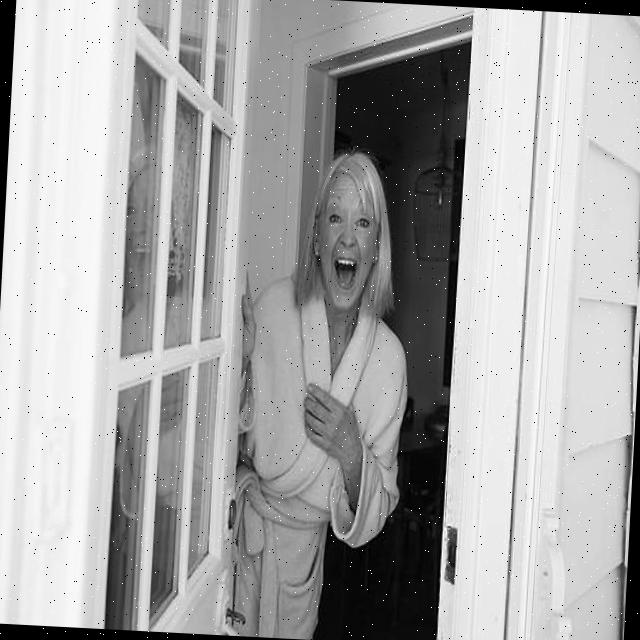Surprised: (315, 169, 380, 313)
